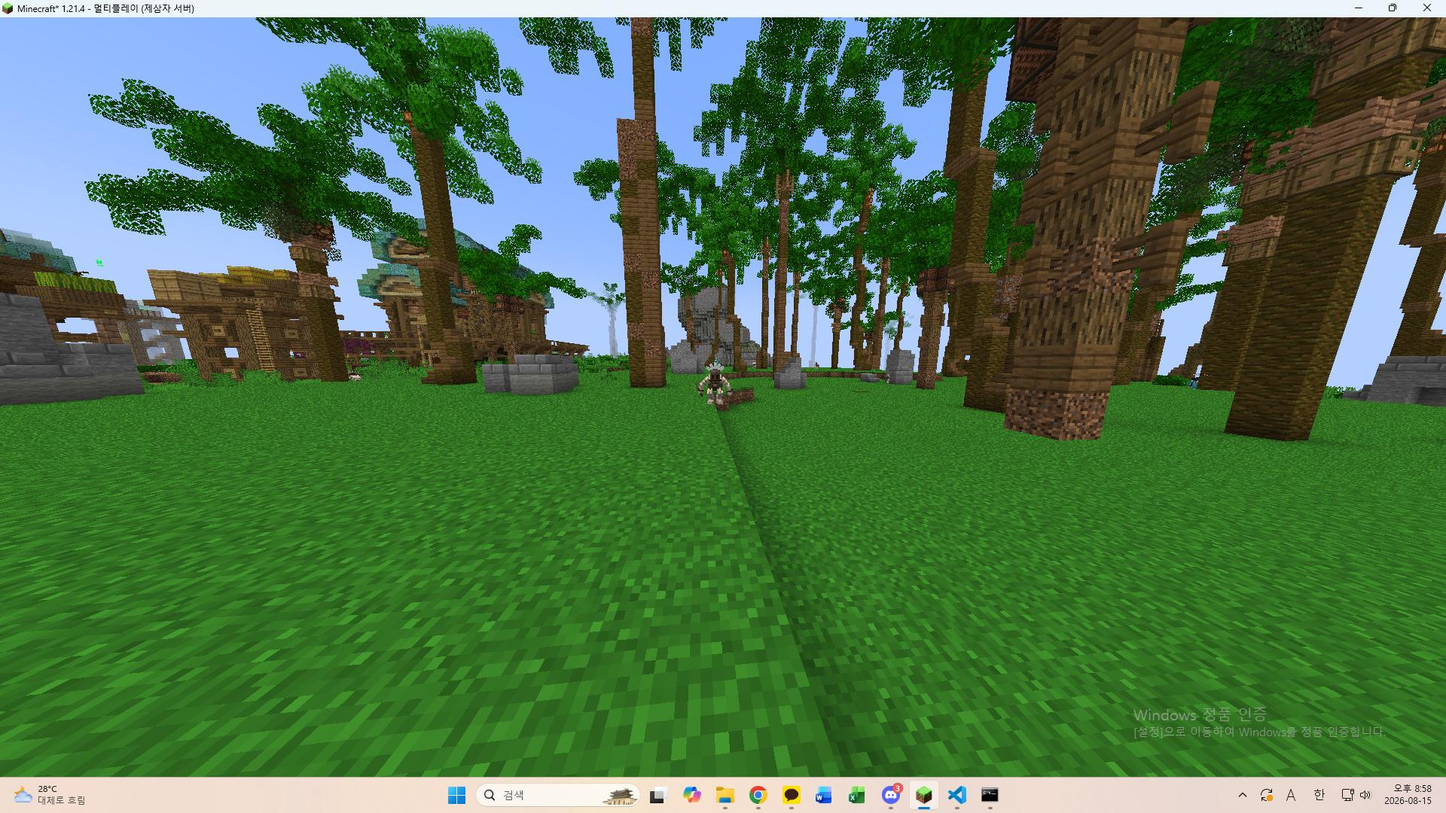bow_indian: (696, 359, 739, 414)
